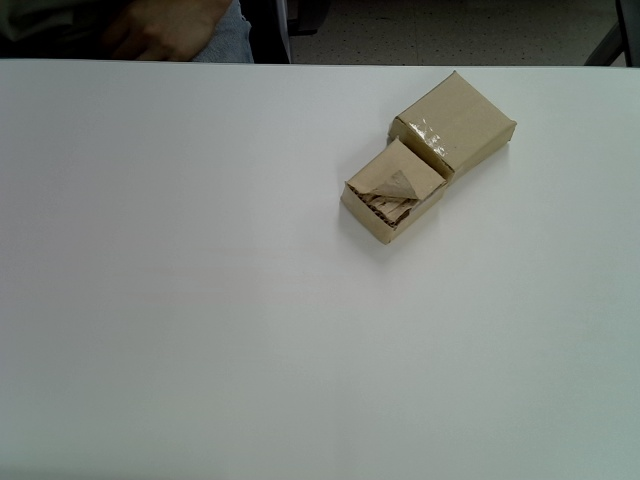defect: (340, 137, 447, 244)
normal: (390, 68, 516, 187)
